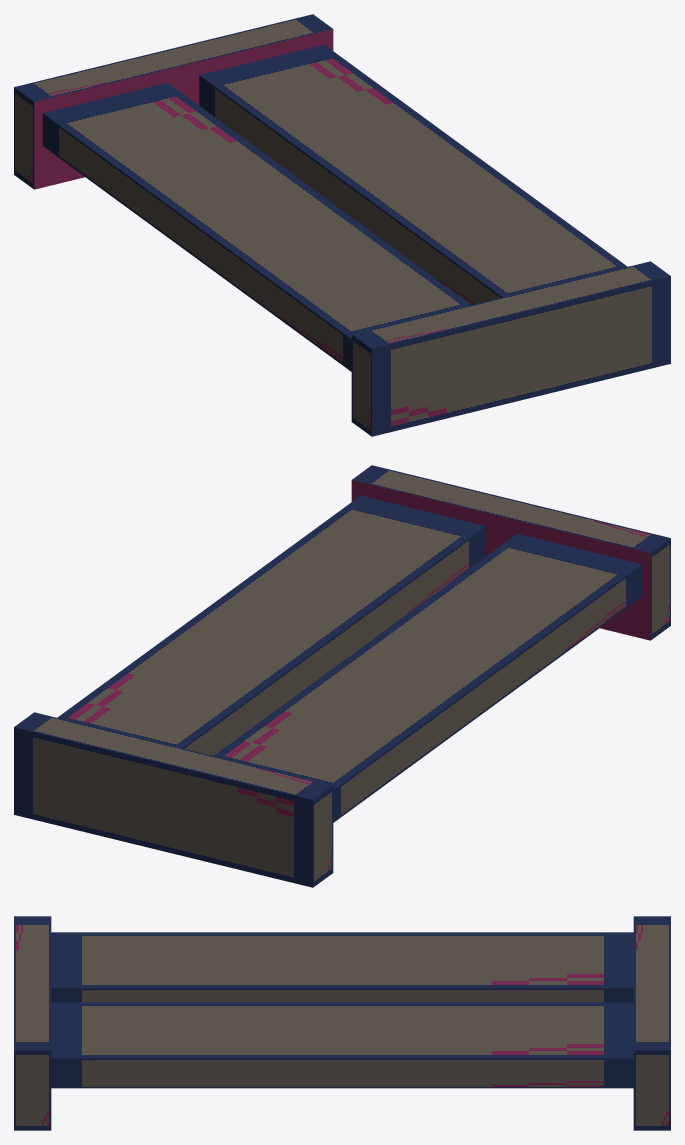
File: pedalboard_s.gltf
3 views of the same model, one above another, from view 1: azimuth 30°, elevation 25°; view 2: azimuth 150°, elevation 25°; view 3: azimuth 270°, elevation 25° (orthographic). The views are drawn at different scales.
Bounding box in the file's own units: 2.39 × 0.67 × 4.96.
1 material, 1 textured.
